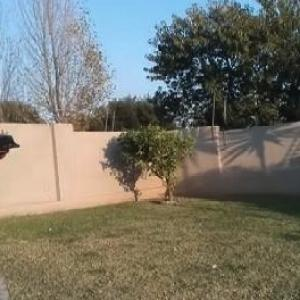follow: (1, 0, 26, 299)
